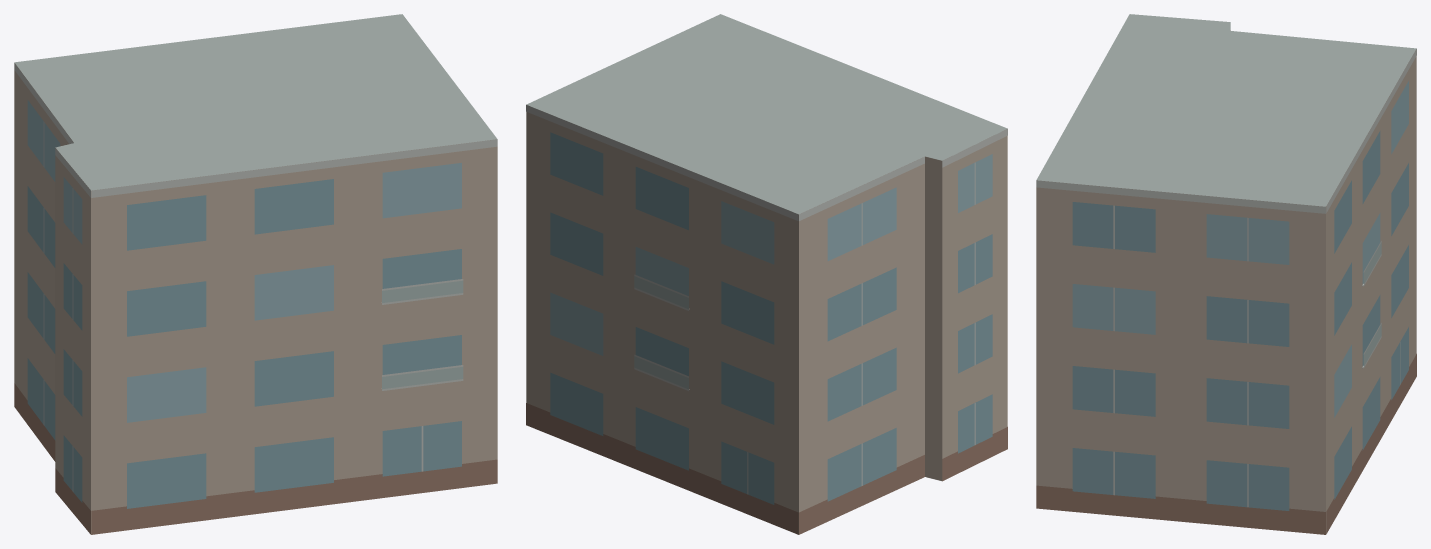
The model's file is survey-upis-32844982.glb.
3 renders of one model, left to right at view 1: azimuth 30°, elevation 25°; view 2: azimuth 150°, elevation 25°; view 3: azimuth 270°, elevation 25°, orthographic. The views are drawn at different scales.
Parts seen in each view (by area): view 1: survey-upis-32844982.tmp; view 2: survey-upis-32844982.tmp; view 3: survey-upis-32844982.tmp.
Boxes of the visible parts, bbox=[...] form: survey-upis-32844982.tmp: bbox=[14, 14, 497, 534]; survey-upis-32844982.tmp: bbox=[526, 14, 1007, 534]; survey-upis-32844982.tmp: bbox=[1036, 14, 1416, 534].
Size of the model in its own units: 14.16 by 11.23 by 11.81.
